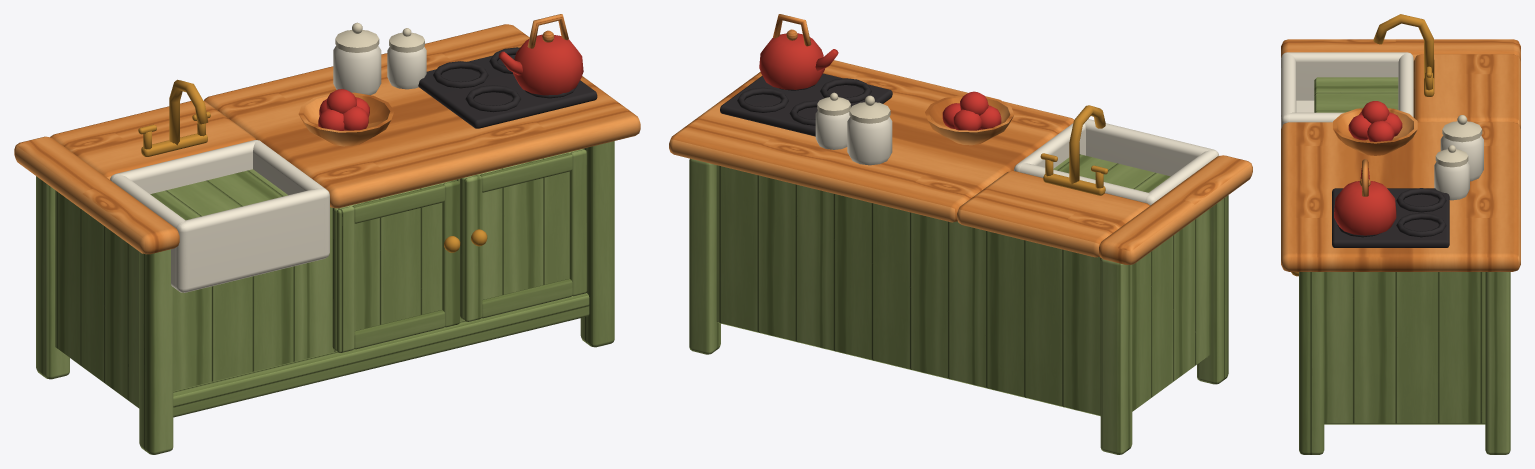
Rendered from kitchen.glb.
3 views of the same model, side by side, from view 1: azimuth 30°, elevation 25°; view 2: azimuth 150°, elevation 25°; view 3: azimuth 270°, elevation 25° (orthographic). The views are drawn at different scales.
Parts seen in each view (by area): view 1: model; view 2: model; view 3: model.
Boxes of the visible parts, x1,y1,x2,y2 form: model: (14, 14, 640, 454); model: (669, 14, 1252, 454); model: (1281, 14, 1520, 454).
Size of the model in its own units: 2.04 by 1.21 by 0.94.
Materials: 8 (2 with a texture image).
